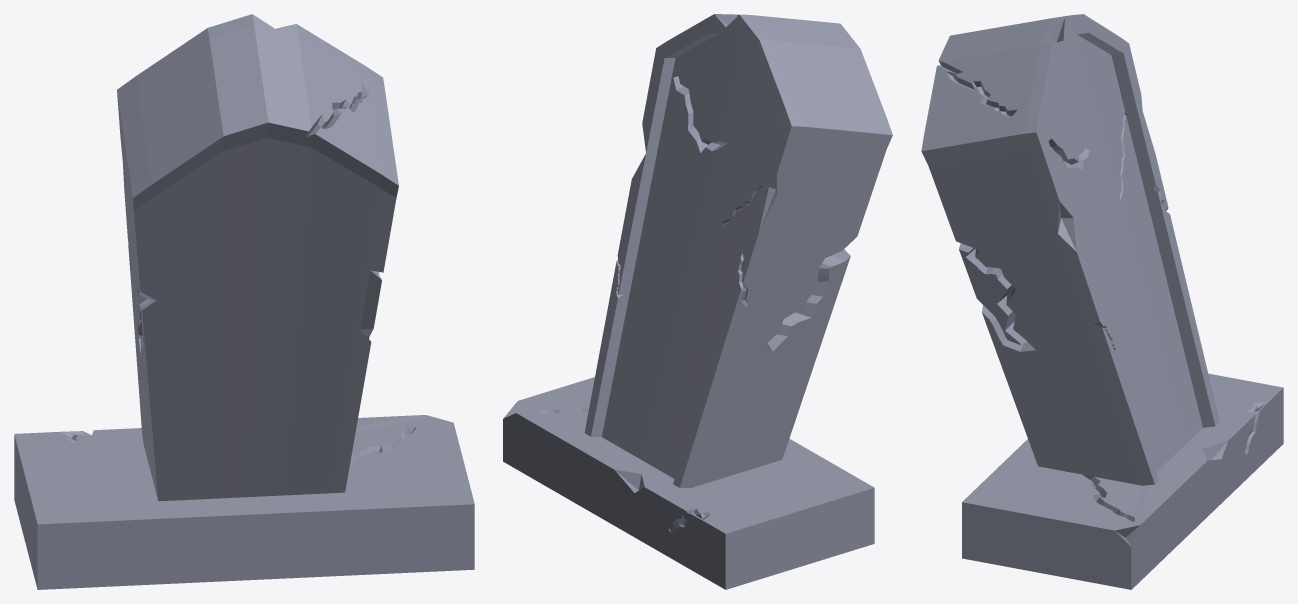
Rendered from grave.glb.
3 renders of one model, left to right at view 1: azimuth 30°, elevation 25°; view 2: azimuth 150°, elevation 25°; view 3: azimuth 270°, elevation 25°, orthographic. The views are drawn at different scales.
Visible parts, largest first — view 1: Cube.091; view 2: Cube.091; view 3: Cube.091.
Boxes of the visible parts, x1,y1,x2,y2 form: Cube.091: [14, 14, 474, 589]; Cube.091: [503, 14, 892, 589]; Cube.091: [921, 14, 1283, 589].
Bounding box in the file's own units: 0.7864 × 0.9777 × 0.6778.
